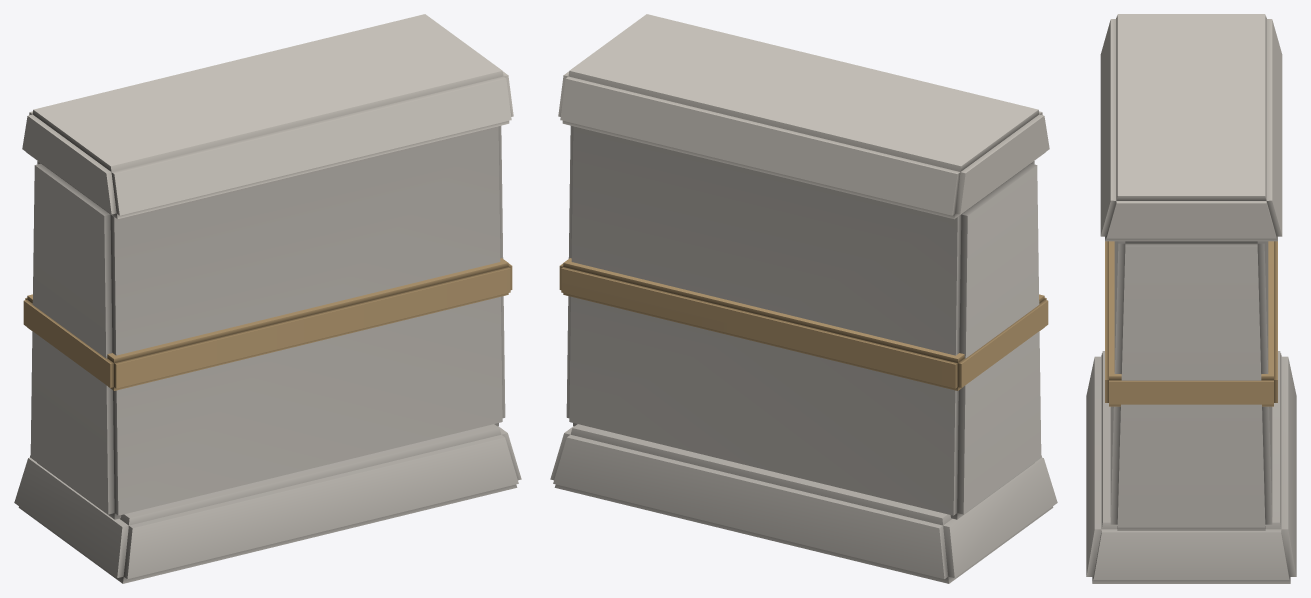
The model's file is wall_lv1_connector_lod0.glb.
The picture shows the model from 3 angles, left to right: view 1: azimuth 30°, elevation 25°; view 2: azimuth 150°, elevation 25°; view 3: azimuth 270°, elevation 25°; orthographic projection. The views are drawn at different scales.
Parts seen in each view (by area): view 1: wall_lv1_connector; view 2: wall_lv1_connector; view 3: wall_lv1_connector.
Boxes of the visible parts, left/top/right/bottom form: wall_lv1_connector: left=14, top=14, right=521, bottom=583; wall_lv1_connector: left=550, top=14, right=1057, bottom=583; wall_lv1_connector: left=1086, top=14, right=1296, bottom=583.
Size of the model in its own units: 1.59 by 1.53 by 0.7515.
